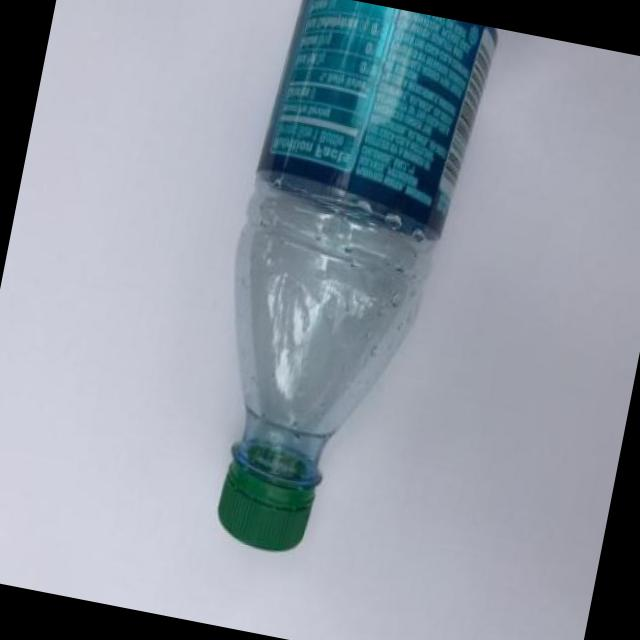plastic_bottle: (182, 0, 504, 576)
